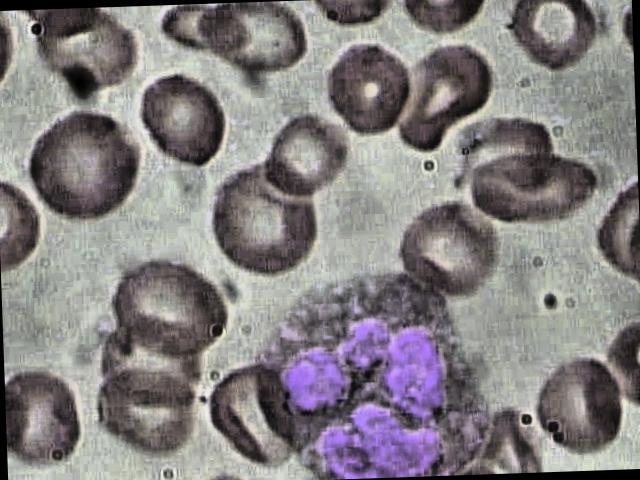RBC: (20, 105, 150, 229), (104, 248, 235, 362), (212, 157, 321, 282), (395, 39, 499, 156), (394, 194, 504, 300), (469, 146, 605, 229), (133, 71, 235, 174), (528, 354, 632, 452), (324, 36, 415, 142), (200, 1, 316, 83), (4, 356, 82, 474), (266, 104, 350, 202), (510, 0, 598, 79)
WBC: (242, 268, 486, 480)
